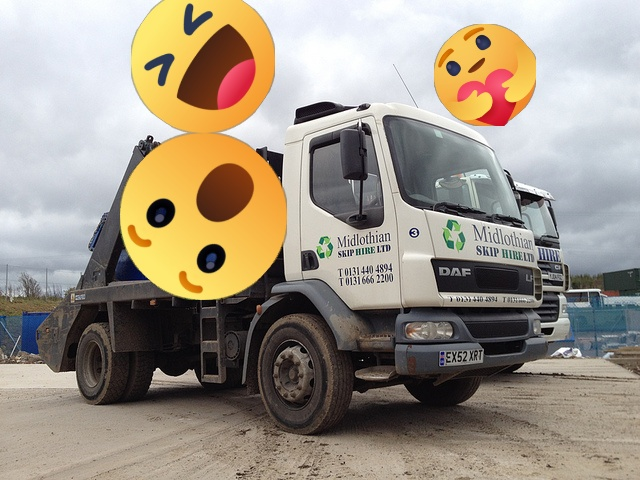care: (434, 24, 536, 126)
haha: (131, 0, 275, 133)
wow: (120, 133, 287, 300)
